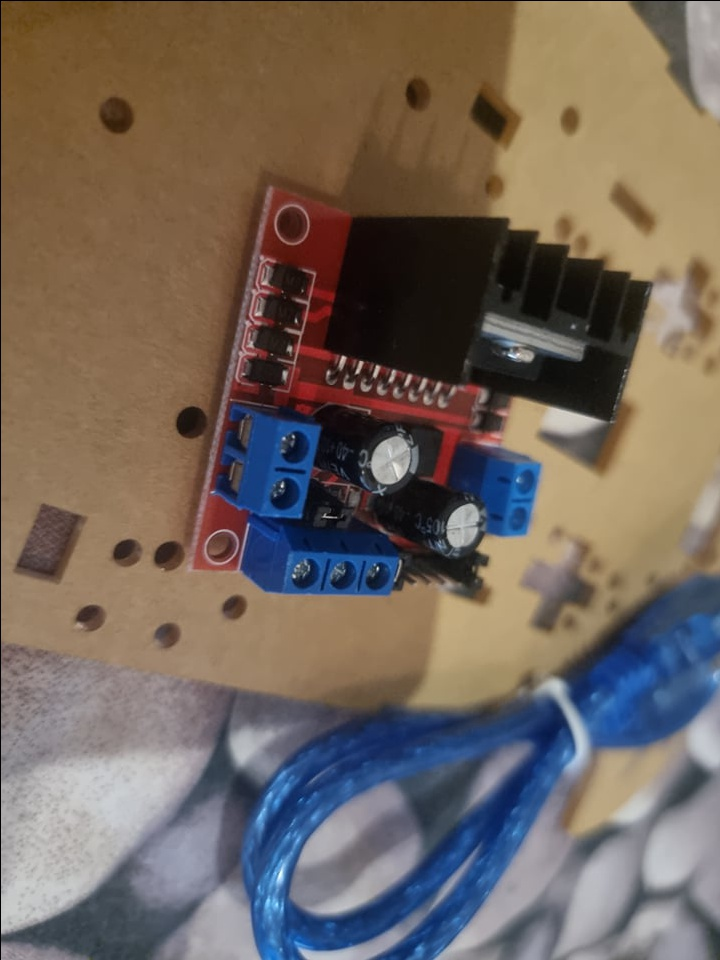MOTOR: (184, 177, 656, 598)
